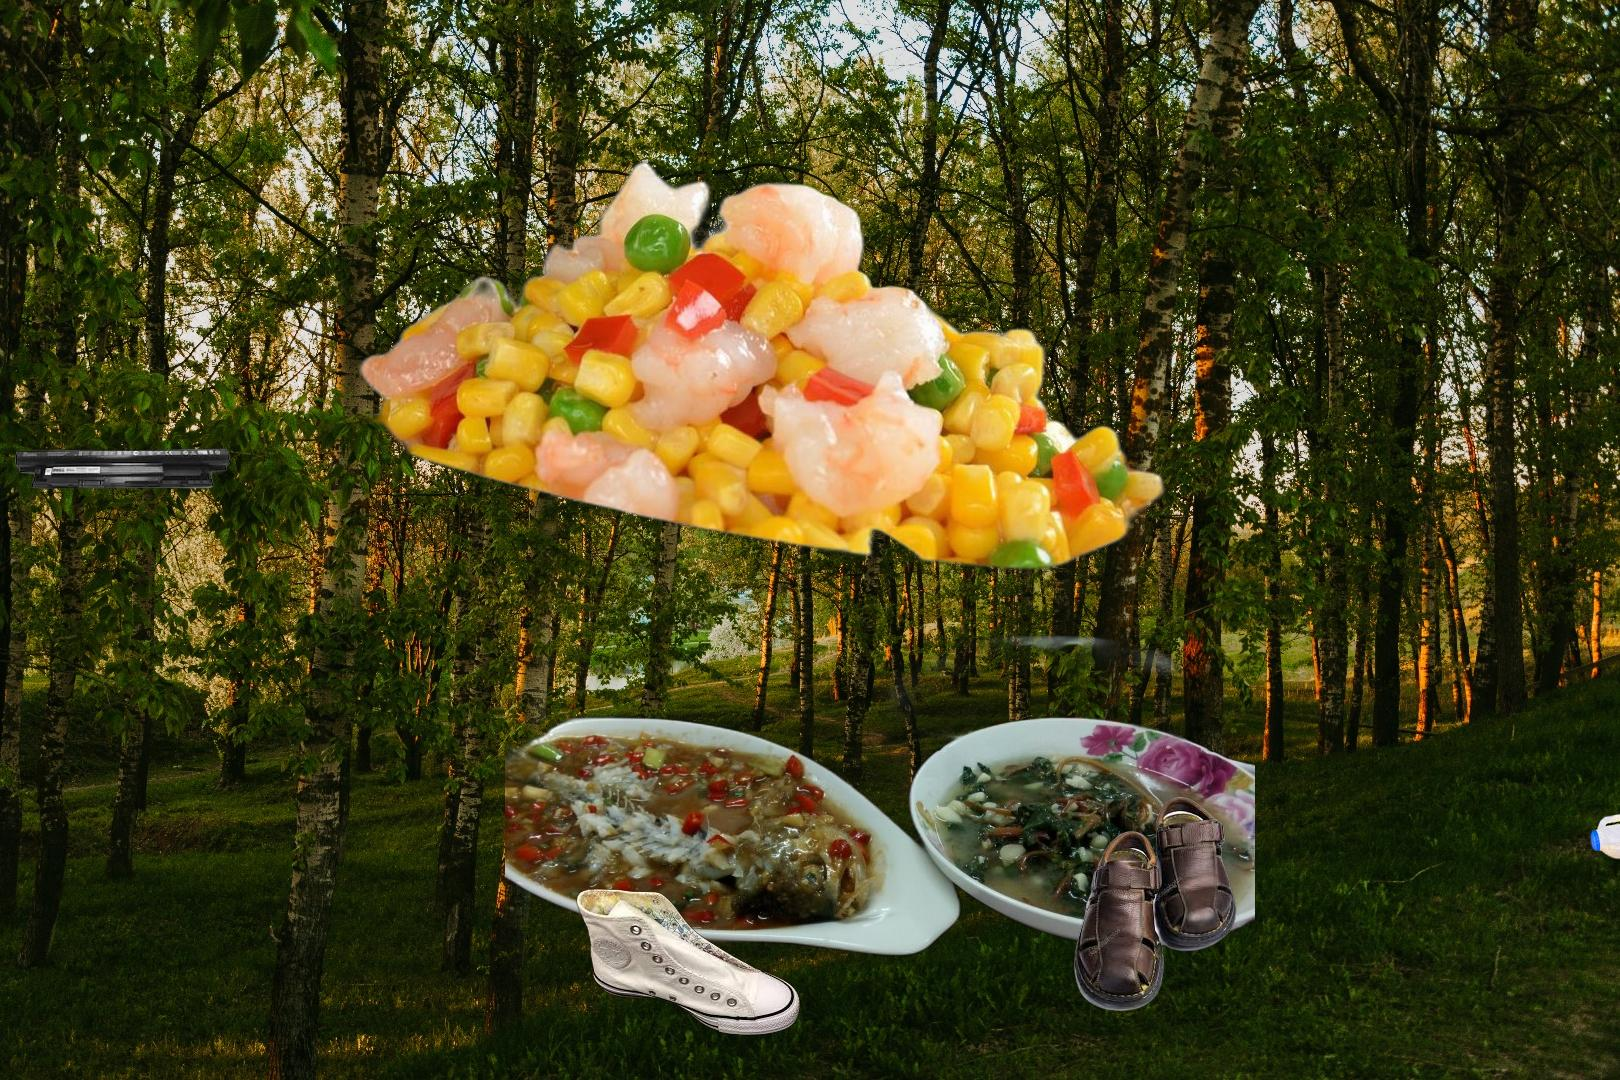battery: (12, 446, 231, 492)
biological: (309, 155, 1178, 577), (505, 630, 1255, 961)
plastic-bottles: (1291, 790, 1620, 1080)
shoes: (1072, 794, 1239, 1014), (573, 886, 803, 1038)
